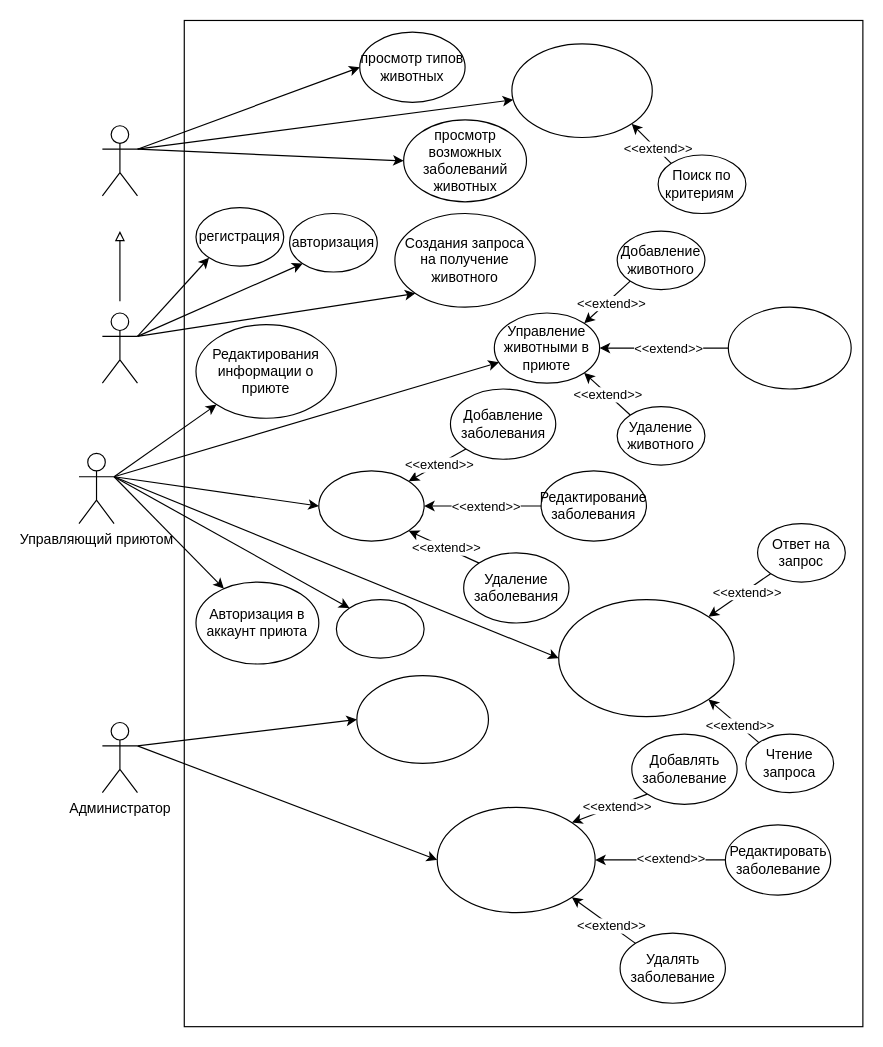
Some shapes in this 883 by 1047 pixel diagram are drawn without their labels. Here are the shapes that lost their labels. From the top down, the centre of each, then its label:
the point at 581,90: Просмотр списка животных из приютов
the point at 119,160: Гость
the point at 119,347: Пользователь
the point at 789,347: Редактирование информации о животном
the point at 371,505: Управление заболеваниями животного
the point at 379,628: Регистрация приюта
the point at 646,657: Обработка запросов на получение животного из приюта
the point at 422,719: Блокировать пользователя или управляющего приютом
the point at 515,859: Управлять списком возможных заболеваний
